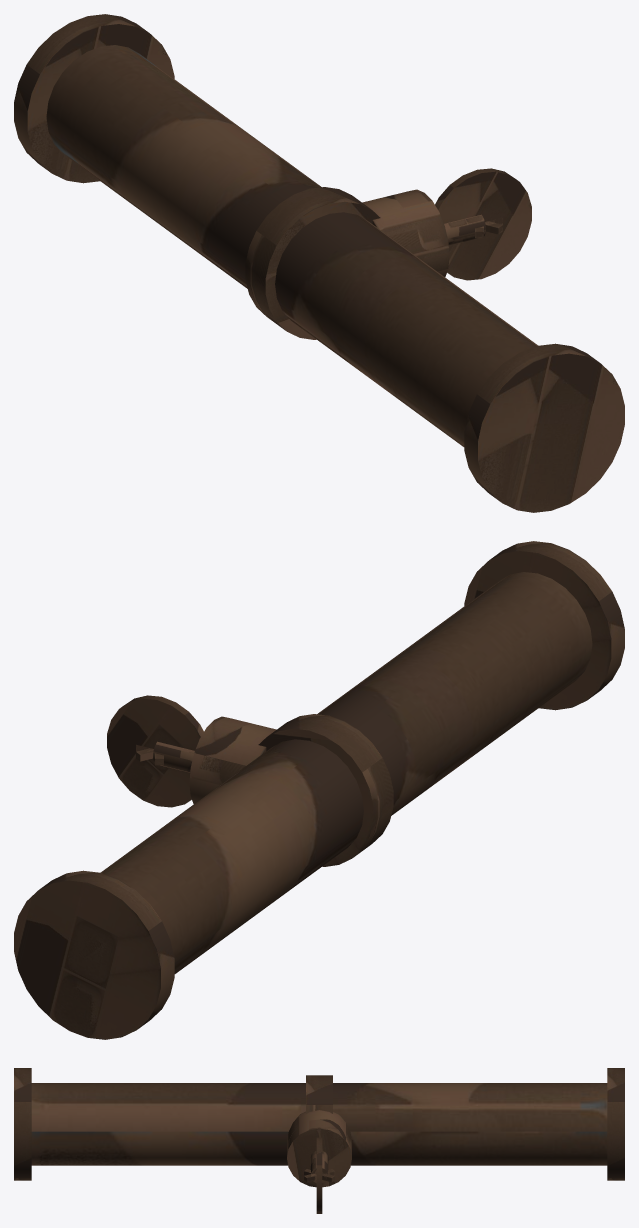
The model's file is PR_pipe_kit.glb.
The picture shows the model from 3 angles, top to bottom: view 1: azimuth 30°, elevation 25°; view 2: azimuth 150°, elevation 25°; view 3: azimuth 270°, elevation 25°; orthographic projection. The views are drawn at different scales.
Visible parts, largest first — view 1: PR_pipe_kit; view 2: PR_pipe_kit; view 3: PR_pipe_kit.
Part boxes in pixels (x1,y1,x2,y2): PR_pipe_kit: (14, 14, 624, 512); PR_pipe_kit: (14, 541, 624, 1039); PR_pipe_kit: (14, 1068, 624, 1213).
Size of the model in its own units: 0.7273 by 0.38 by 2.06.
Materials: 1 (1 with a texture image).
